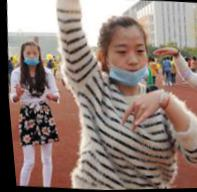WRONG: (104, 37, 155, 86), (21, 49, 40, 68)
